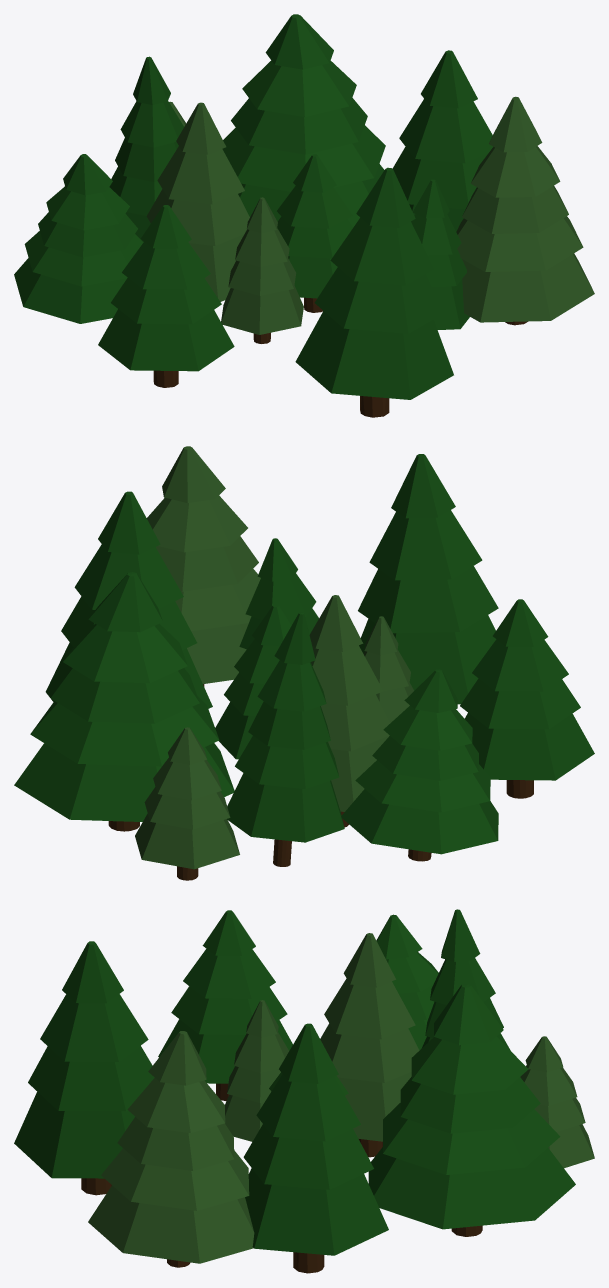
The model's file is forest_medium2.fbx.
3 renders of one model, top to bottom at view 1: azimuth 30°, elevation 25°; view 2: azimuth 150°, elevation 25°; view 3: azimuth 270°, elevation 25°, orthographic. The views are drawn at different scales.
Visible parts, largest first — view 1: Circle.006; view 2: Circle.006; view 3: Circle.006.
Boxes of the visible parts, x1,y1,x2,y2 form: Circle.006: (14, 14, 594, 417); Circle.006: (14, 446, 594, 880); Circle.006: (14, 909, 594, 1273).
Bounding box in the file's own units: 1723 × 868 × 1804.
